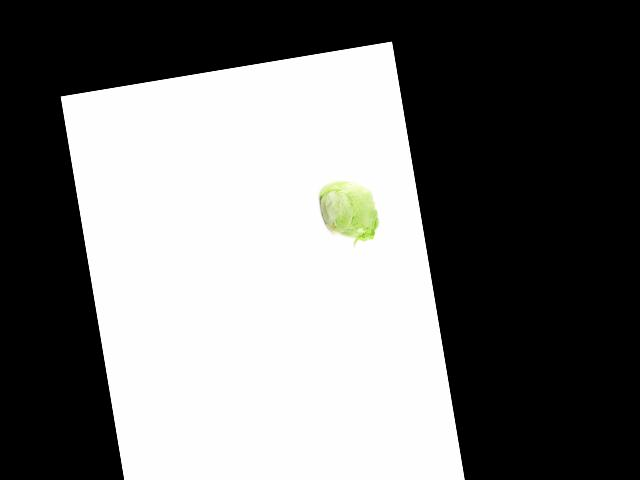lettuce: (313, 172, 384, 245)
